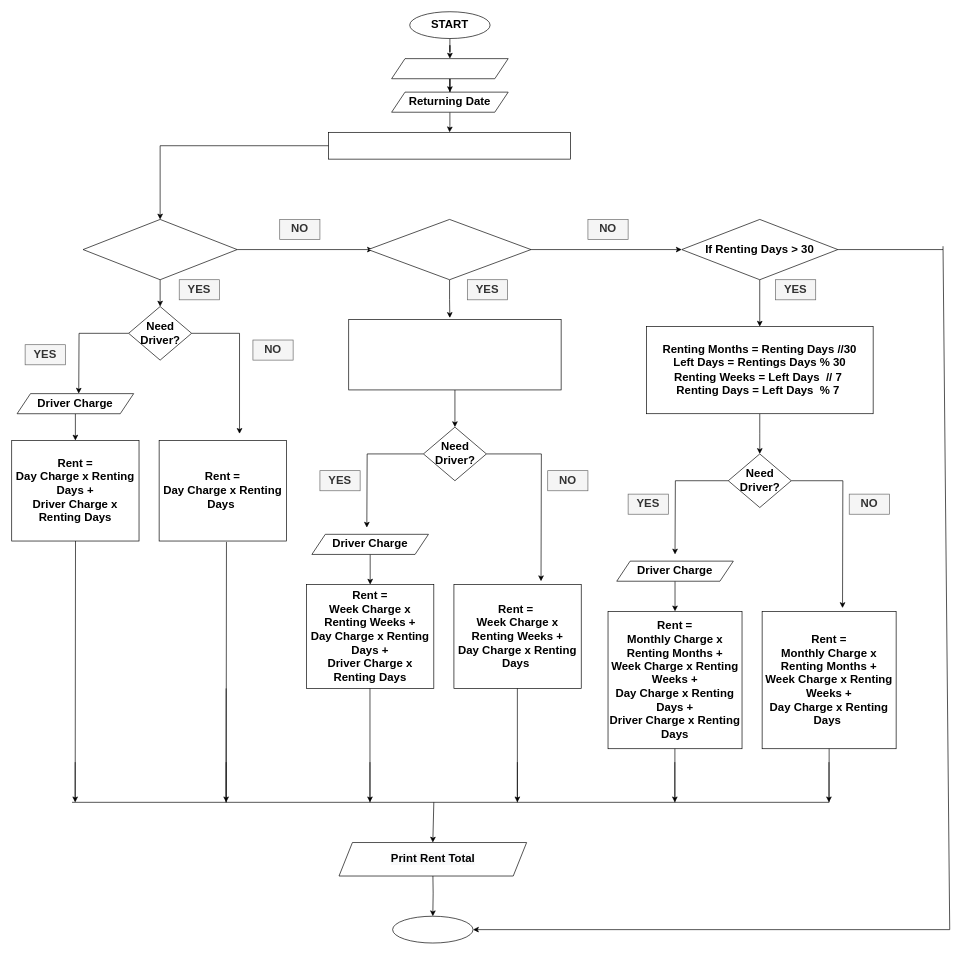
Image size: 967x955. Some labels were removed from this diagram. The shapes that lost their labels are listed below. From the top down, each one's box as (x1, y1, x2, y2) in pixels, then its label:
(391, 58, 508, 79): Renting Date
(328, 132, 571, 159): Renting Days = Return Date - Renting Date
(82, 219, 237, 280): If Renting Days <= 7
(367, 219, 531, 280): If Renting Days < 30
(348, 319, 561, 390): Renting Weeks = Renting Days // 7 Renting Days = Renting Days % 7
(392, 916, 473, 943): END
